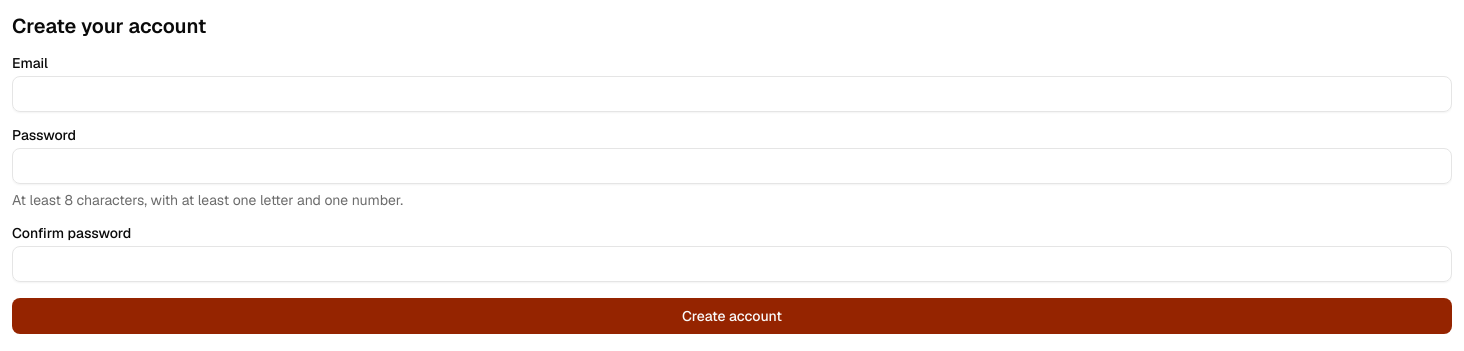
Test case: RegisterForm › shows the check-your-email screen with a working resend control on a successful signUp
The image size is (1464, 351).
Type "new-user@example.com" into the field labelled "Email" at (732,94), box [12,76,1452,112]
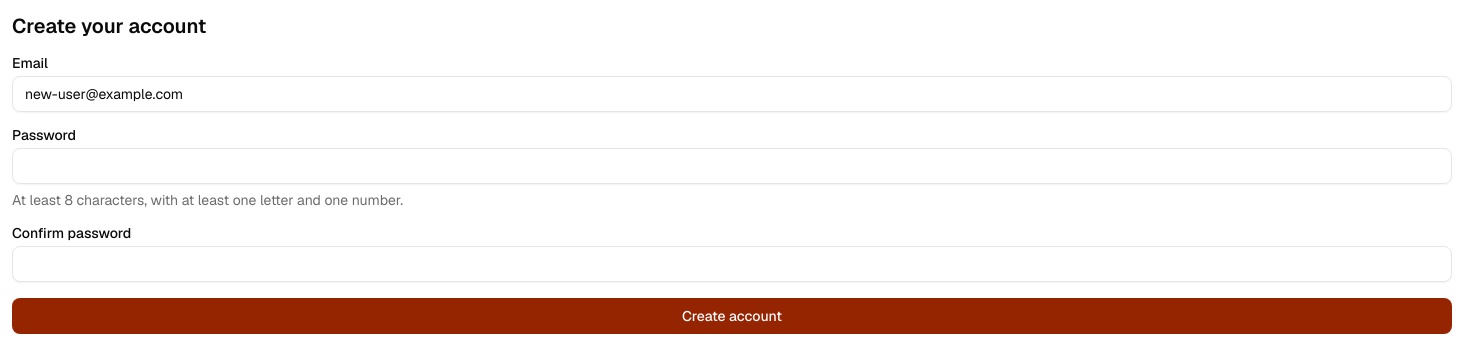
Type "abcd1234" into the password field labelled "Password" at (732,166), box [12,148,1452,184]
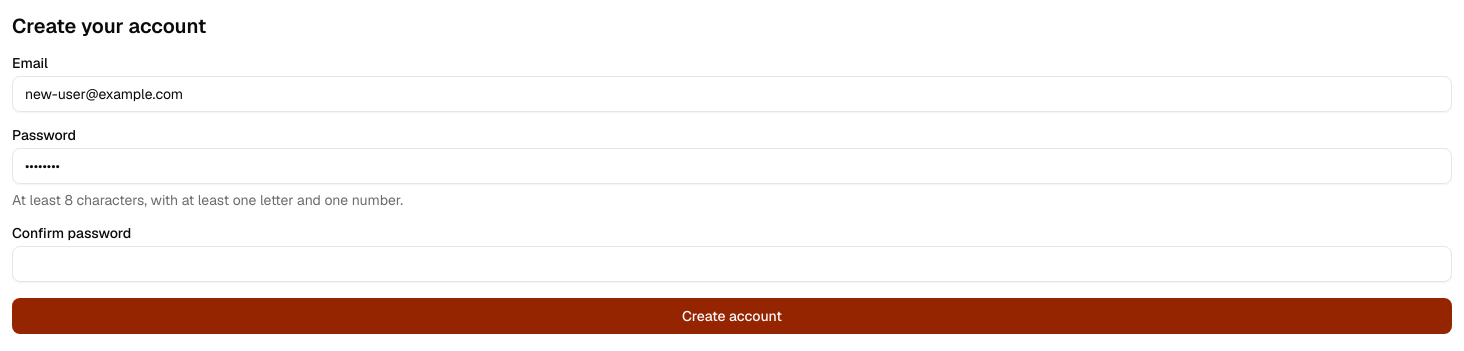
Type "abcd1234" into the password field labelled "Confirm password" at (732,264), box [12,246,1452,282]
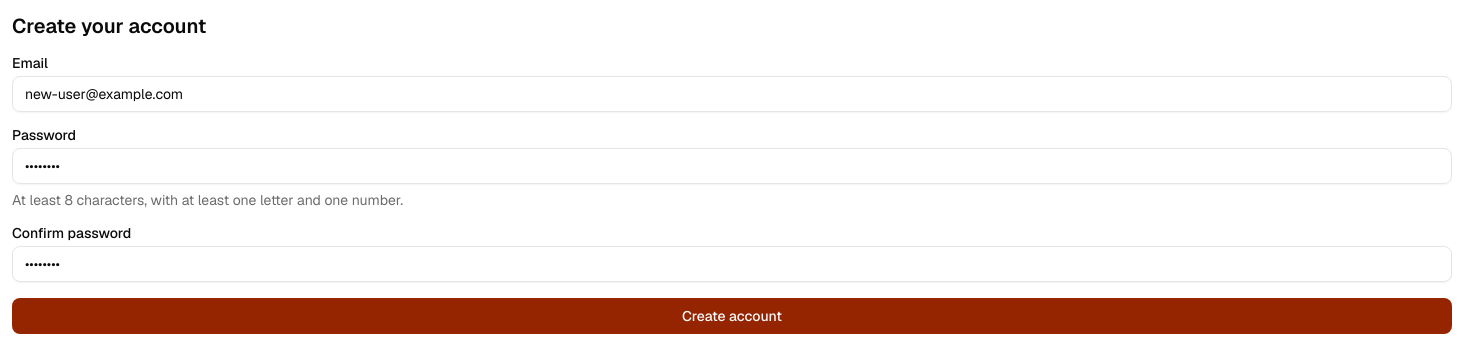
Click the button "Create account" at (732,316), box [12,298,1452,334]
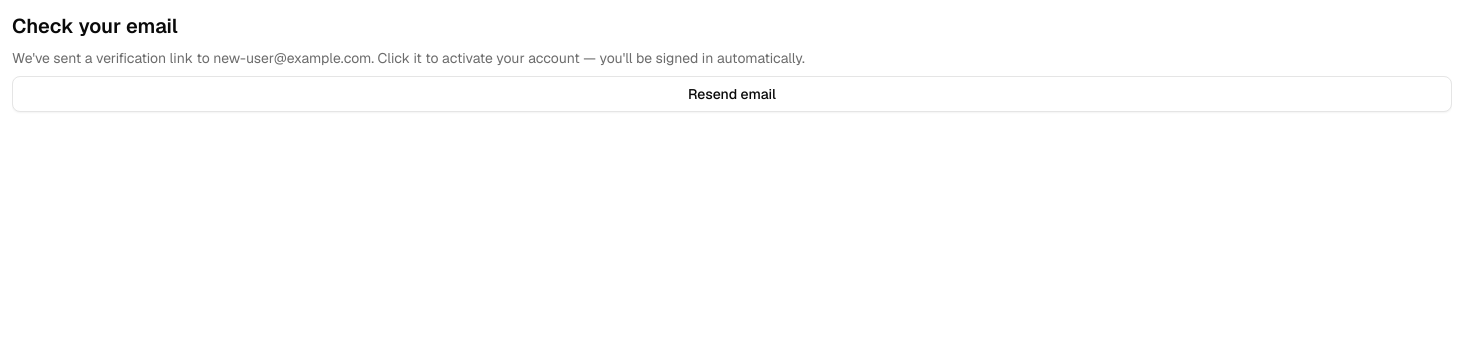
Expected: the button "Resend email" is enabled, [12,76,1452,112]
Expected: the heading "Check your email" is shown, [12,13,178,39]
